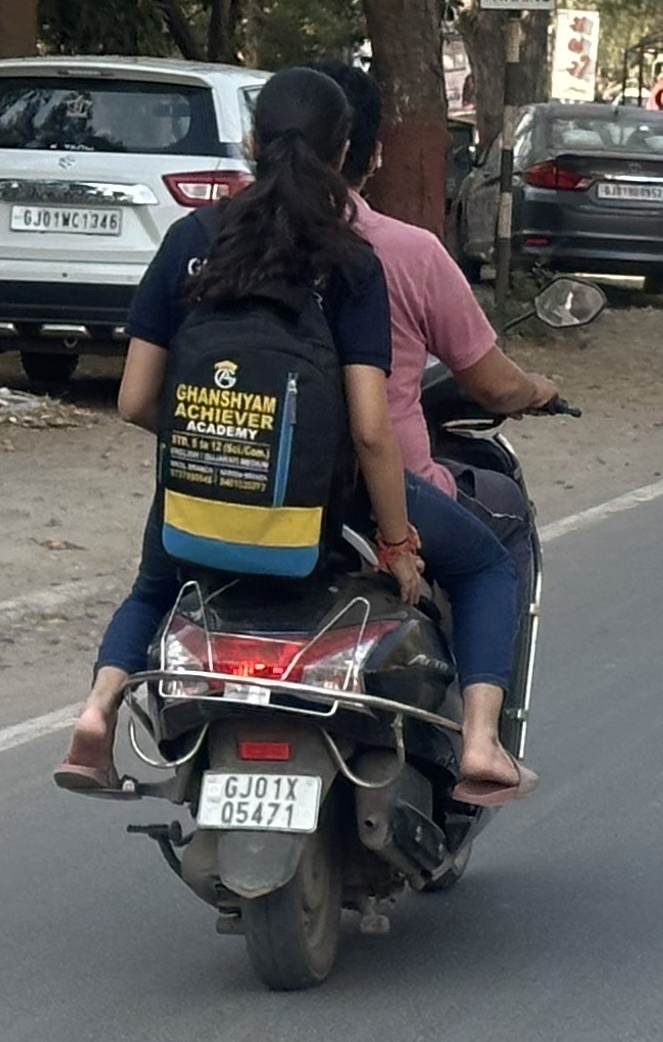BikeWithRider: (57, 54, 613, 995)
NoHelmet: (224, 54, 364, 217), (299, 47, 410, 201)
